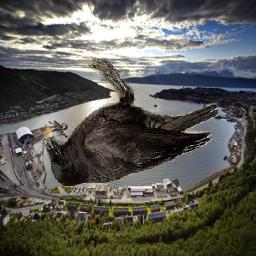Crow: (40, 58, 218, 188)
